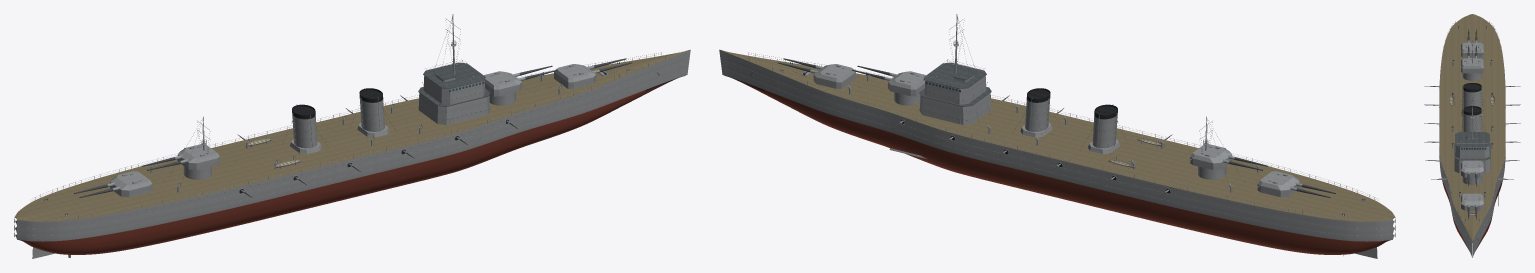
Rendered from mackensen_bc.glb.
3 renders of one model, left to right at view 1: azimuth 30°, elevation 25°; view 2: azimuth 150°, elevation 25°; view 3: azimuth 270°, elevation 25°, orthographic. The views are drawn at different scales.
Visible parts, largest first — view 1: Mackensen class (broken up incomplete); view 2: Mackensen class (broken up incomplete); view 3: Mackensen class (broken up incomplete).
Part boxes in pixels (x1,y1,x2,y2): Mackensen class (broken up incomplete): (14,14,690,258); Mackensen class (broken up incomplete): (719,14,1395,258); Mackensen class (broken up incomplete): (1424,14,1520,257).
Bounding box in the file's own units: 207 × 42.37 × 36.63.
Materials: 9 (8 with a texture image).
